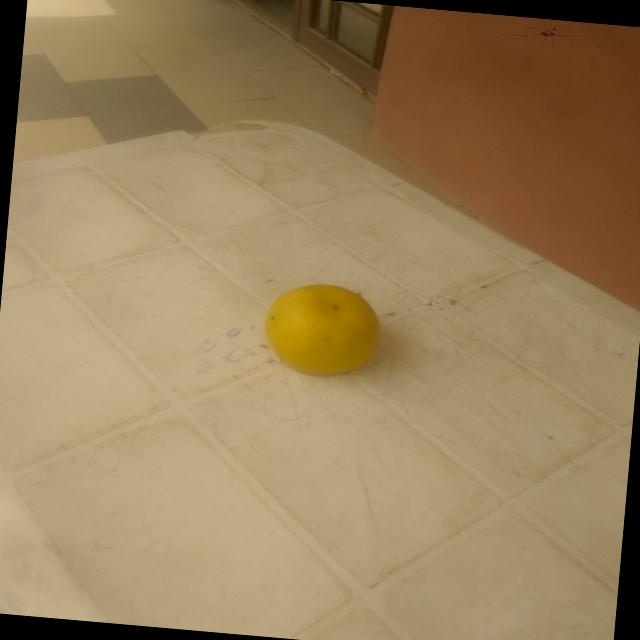agrume: (259, 275, 389, 390)
